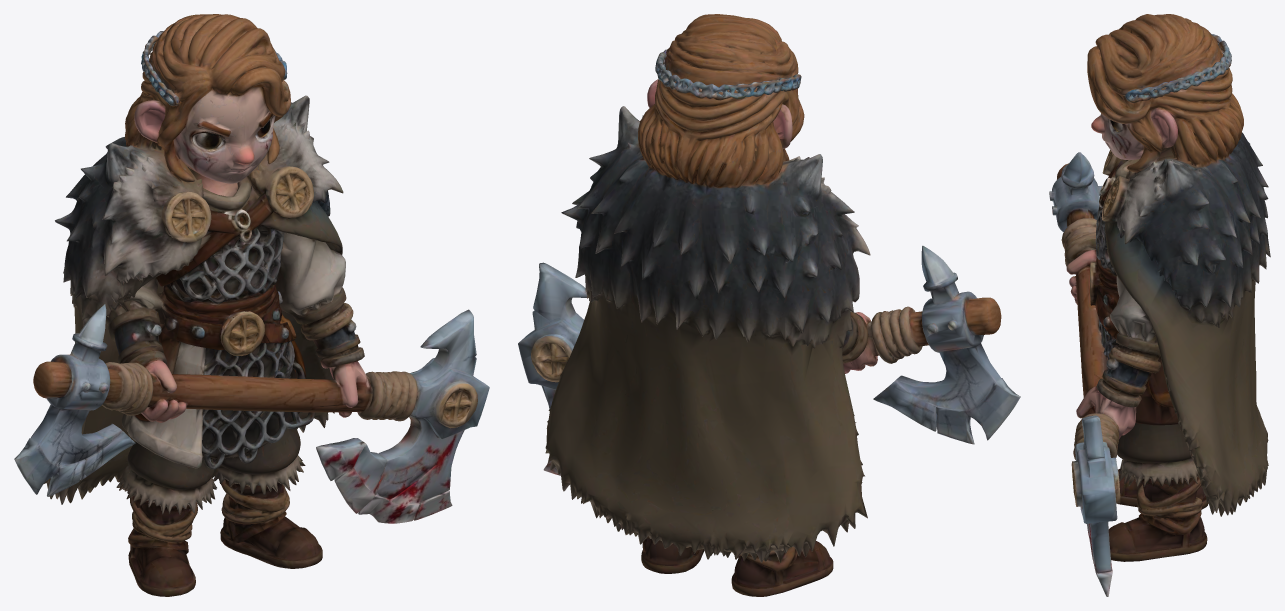
The model's file is actor-iron-warden.glb.
The picture shows the model from 3 angles, left to right: view 1: azimuth 30°, elevation 25°; view 2: azimuth 150°, elevation 25°; view 3: azimuth 270°, elevation 25°; orthographic projection. The views are drawn at different scales.
Parts seen in each view (by area): view 1: texture_pbr_v128; view 2: texture_pbr_v128; view 3: texture_pbr_v128.
Boxes of the visible parts, x1,y1,x2,y2 form: texture_pbr_v128: [14, 14, 489, 596]; texture_pbr_v128: [518, 14, 1020, 596]; texture_pbr_v128: [1049, 14, 1270, 596].
Size of the model in its own units: 0.8942 by 0.9577 by 0.3825.
Materials: 1 (1 with a texture image).
